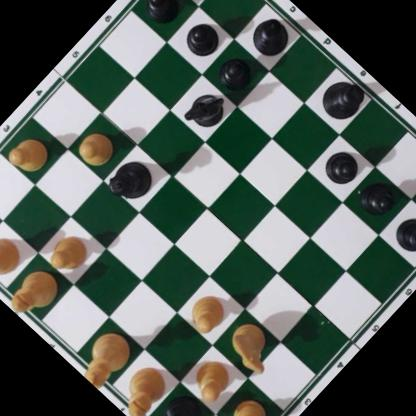black-bishop: (243, 9, 298, 64), (147, 389, 213, 416)
black-king: (313, 70, 371, 128)
black-knight: (180, 83, 234, 137)
black-pawn: (356, 174, 403, 221), (320, 142, 367, 189), (179, 15, 225, 61), (215, 49, 260, 94), (390, 209, 416, 260), (141, 0, 187, 27)
black-queen: (103, 152, 162, 210)
white-bishop: (1, 261, 67, 328), (110, 359, 175, 416)
white-king: (72, 324, 139, 392)
white-knight: (222, 316, 285, 379)
white-pawn: (186, 352, 239, 405), (43, 226, 95, 278), (4, 128, 55, 179), (183, 287, 233, 338), (73, 123, 121, 172), (224, 392, 276, 416)
white-rook: (0, 225, 29, 293)
